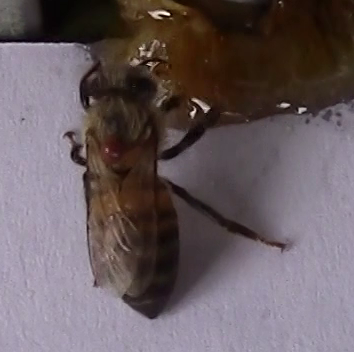Varroa destructor: (100, 132, 125, 163)
